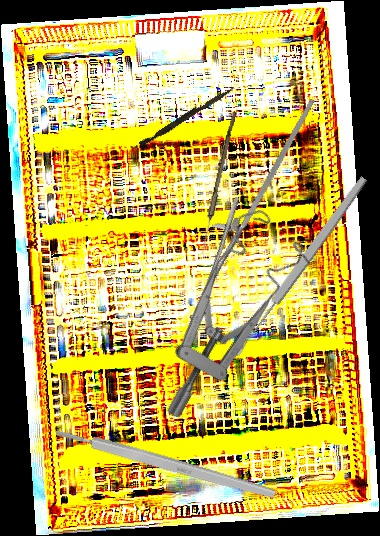Needle Holder: (186, 82, 316, 307)
Pusher: (138, 82, 236, 150)
Scalpel Handle: (54, 424, 277, 502)
Speculum: (98, 194, 342, 424)
Surgical Spoon: (230, 174, 370, 359), (199, 110, 237, 255)
